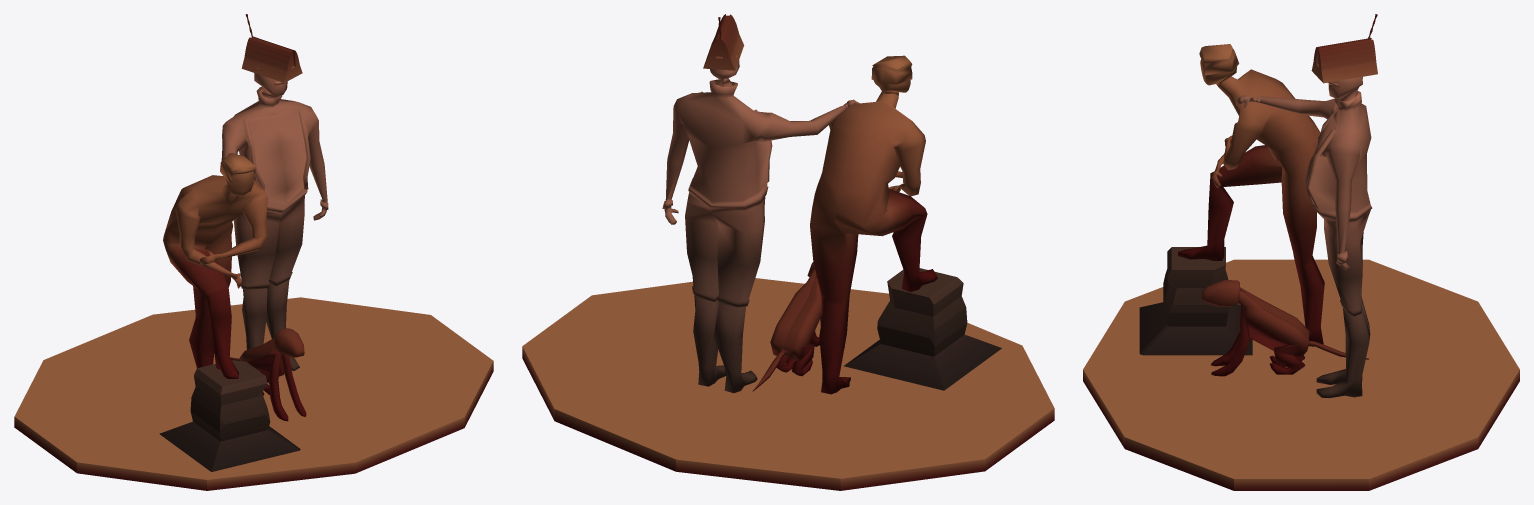
File: Statue.fbx
The picture shows the model from 3 angles, left to right: view 1: azimuth 30°, elevation 25°; view 2: azimuth 150°, elevation 25°; view 3: azimuth 270°, elevation 25°; orthographic projection. The views are drawn at different scales.
Parts seen in each view (by area): view 1: LowPolyHumanBase.001; view 2: LowPolyHumanBase.001; view 3: LowPolyHumanBase.001.
Part boxes in pixels (x1=…): LowPolyHumanBase.001: x1=14, y1=14, x2=493, y2=490; LowPolyHumanBase.001: x1=522, y1=14, x2=1054, y2=490; LowPolyHumanBase.001: x1=1083, y1=14, x2=1519, y2=490.
Size of the model in its own units: 1510 by 1225 by 1271.
